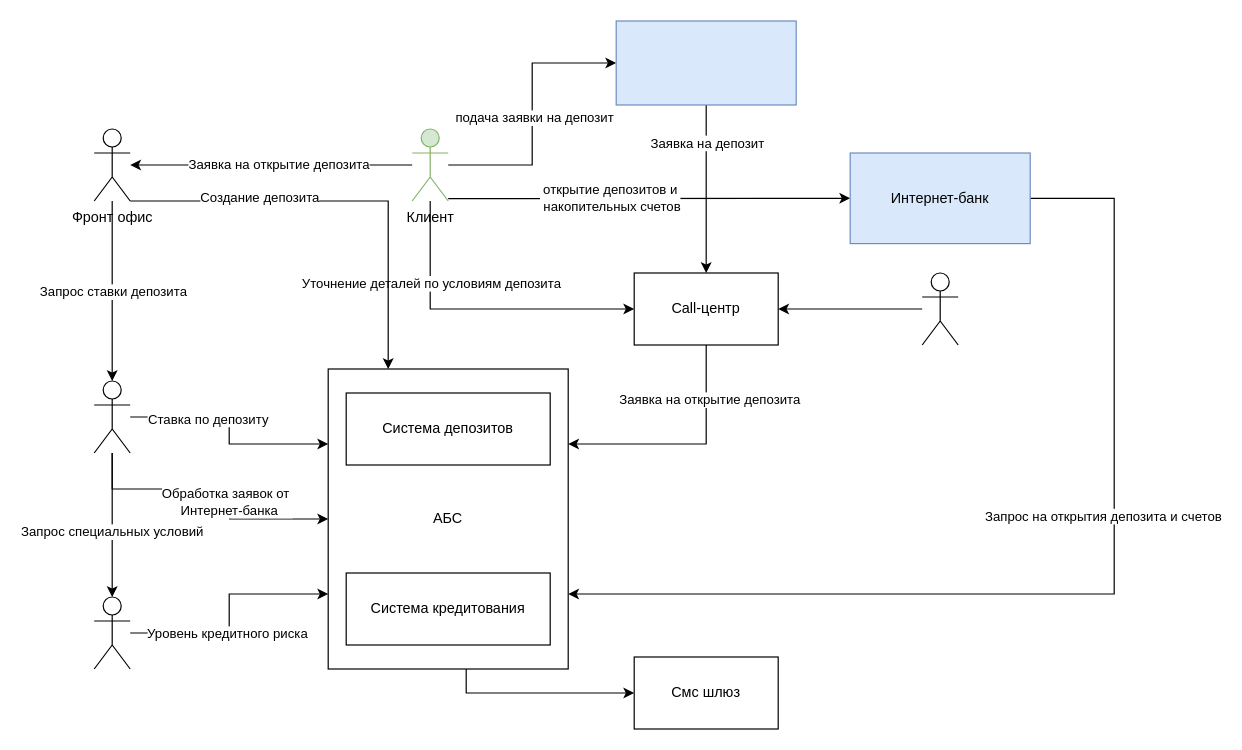
This 1242x750 diagram has some shape labels left out. The shapes that lost their labels are listed below. From the top down, each one's centre as x and y in pixels, then its label:
pixel 705 62: Сайт
pixel 939 308: Оператор Call-центра
pixel 111 416: Менеджер депозитов
pixel 111 632: Менеджер кредитования
